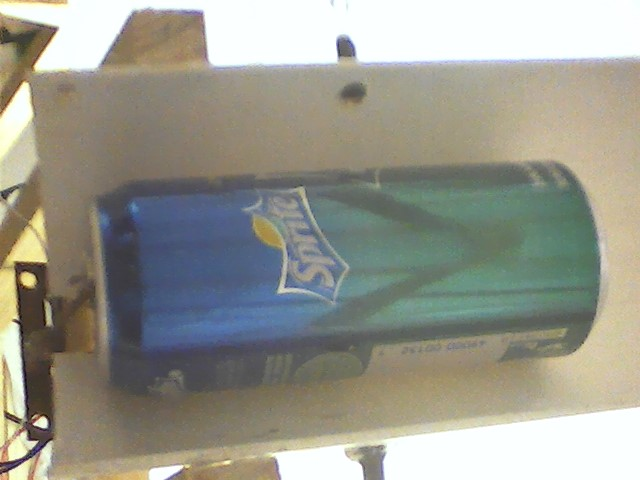lata: (83, 156, 619, 405)
